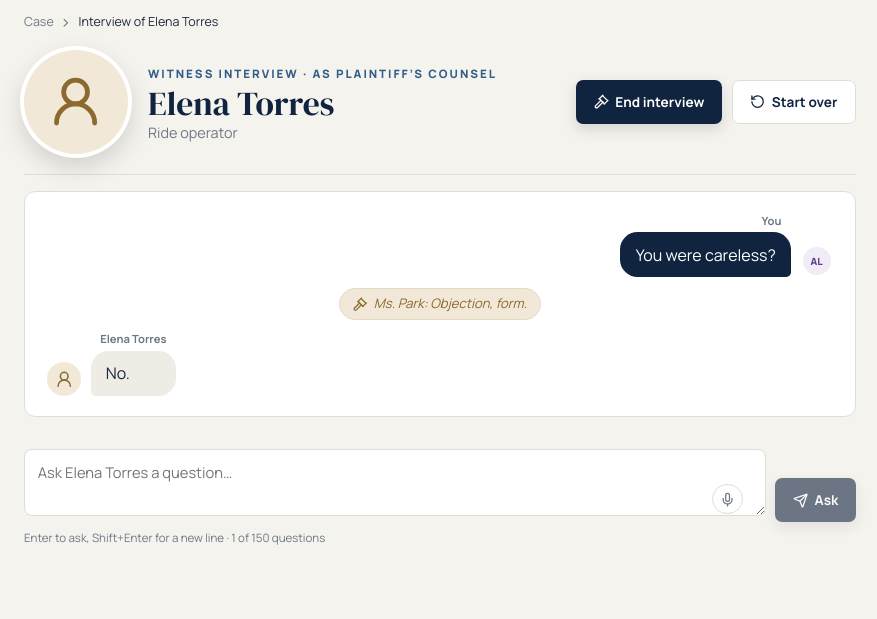
Test: InterviewPage › shows objections and keeps the question when asking fails
Expected: the text "Ms. Park: Objection, form." is shown, [374,294,527,314]
Type "And then?" into the text box named "Your question".
click(395, 483); type("And then?")  # box [24,450,766,516]
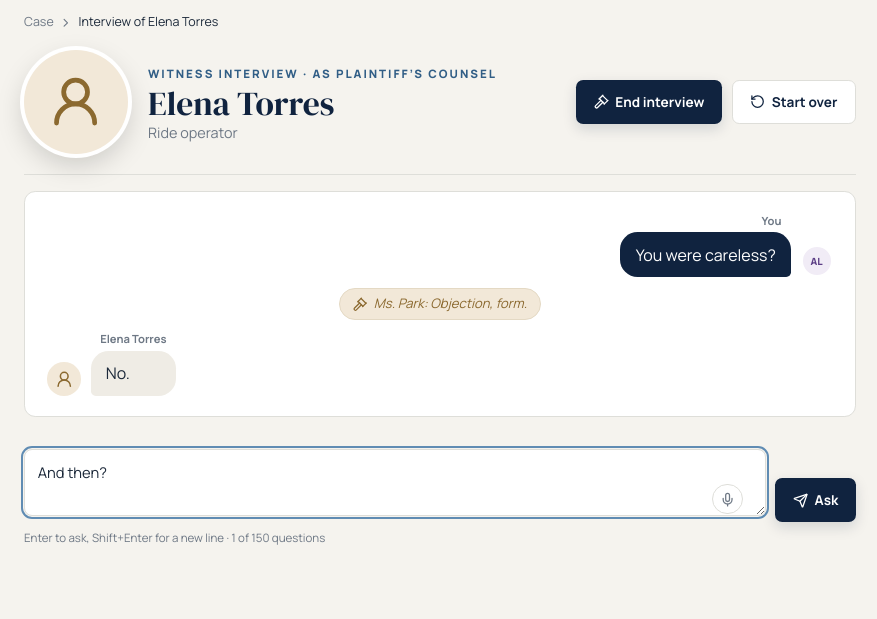
Click the button "Ask".
click(816, 500)  # box [775,478,856,522]
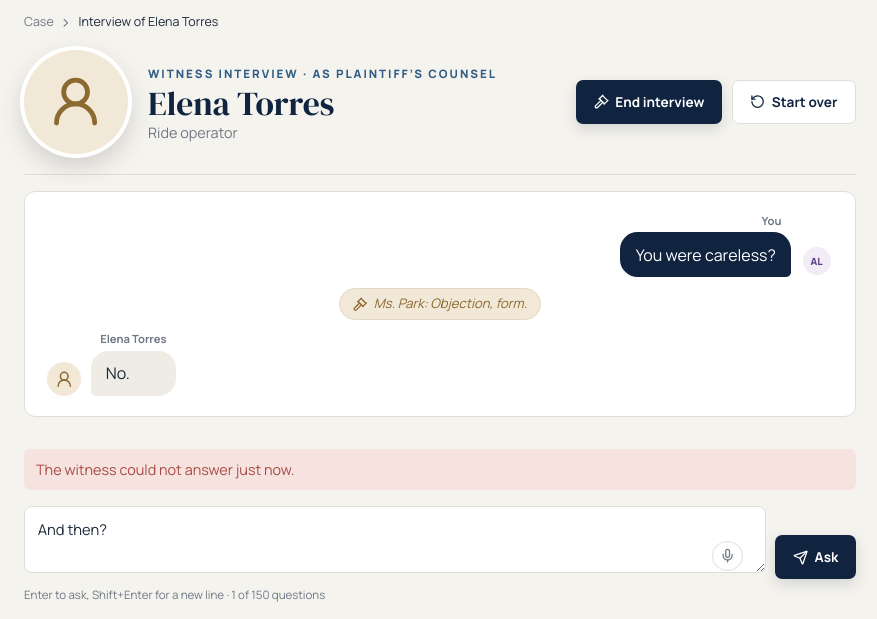
Expected: the message reads "The witness could not answer just now.", [36,460,294,479]
